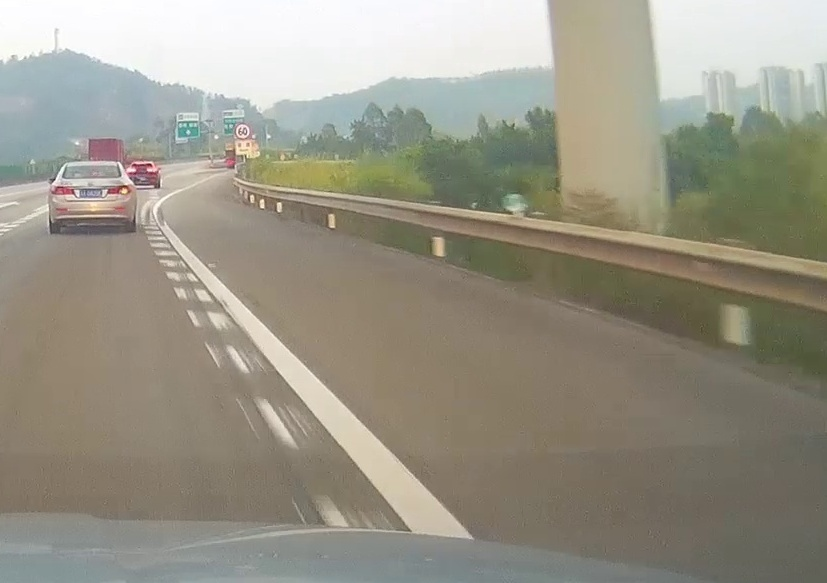L_light: (50, 185, 73, 195)
R_light: (107, 185, 131, 195)
T_light: (83, 176, 98, 178)
day-right: (49, 161, 133, 234)
